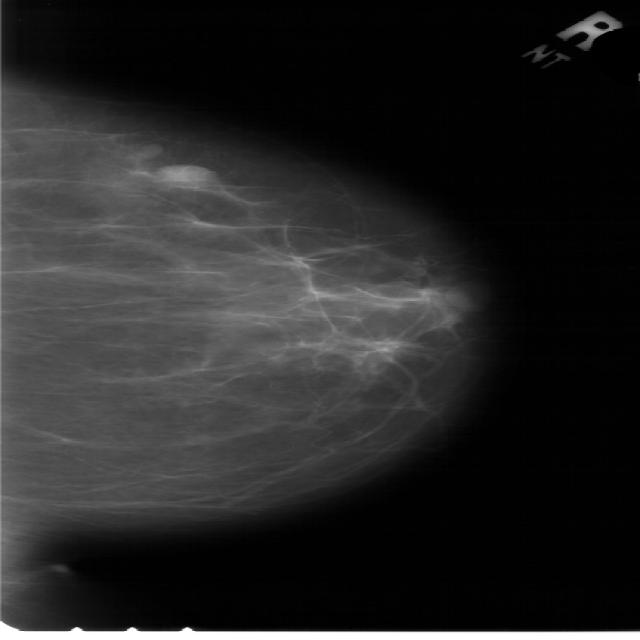tumour: (154, 163, 218, 189)
